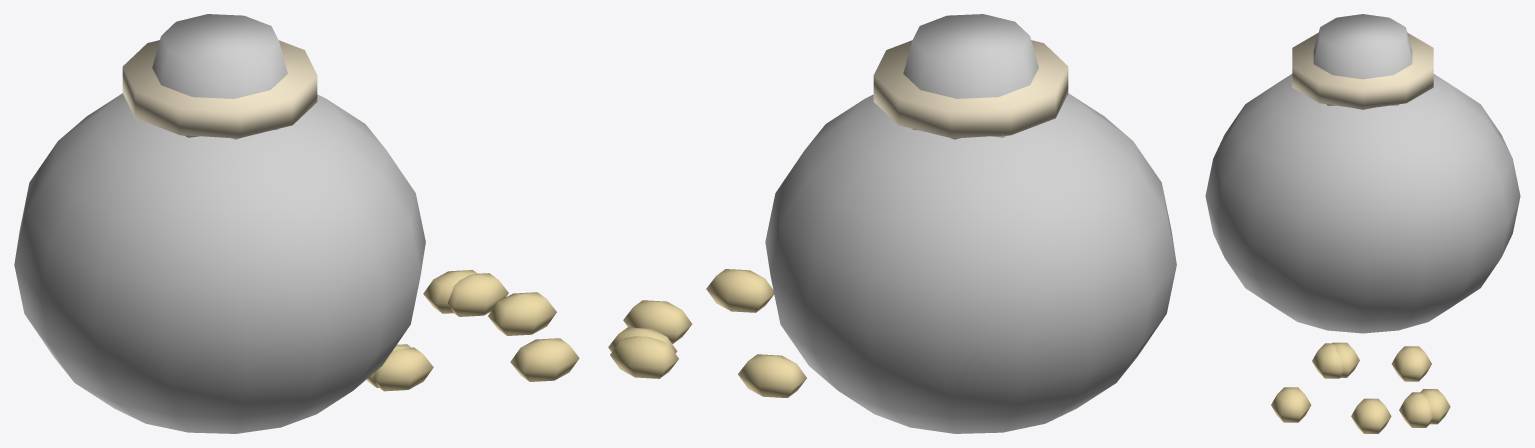
Rendered from SM_Item_seeds_grain.gltf.
3 views of the same model, side by side, from view 1: azimuth 30°, elevation 25°; view 2: azimuth 150°, elevation 25°; view 3: azimuth 270°, elevation 25° (orthographic). The views are drawn at different scales.
Parts seen in each view (by area): view 1: SM_Item_seeds_grain; view 2: SM_Item_seeds_grain; view 3: SM_Item_seeds_grain.
Part boxes in pixels (bbox=[...]): SM_Item_seeds_grain: bbox=[14, 14, 579, 433]; SM_Item_seeds_grain: bbox=[608, 14, 1176, 433]; SM_Item_seeds_grain: bbox=[1205, 14, 1520, 433].
Size of the model in its own units: 0.2008 by 0.1395 by 0.14.
